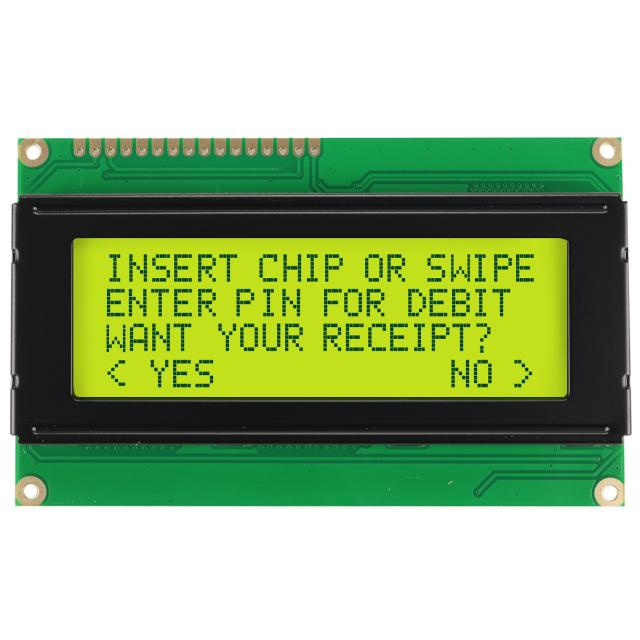Display: (13, 125, 632, 516)
